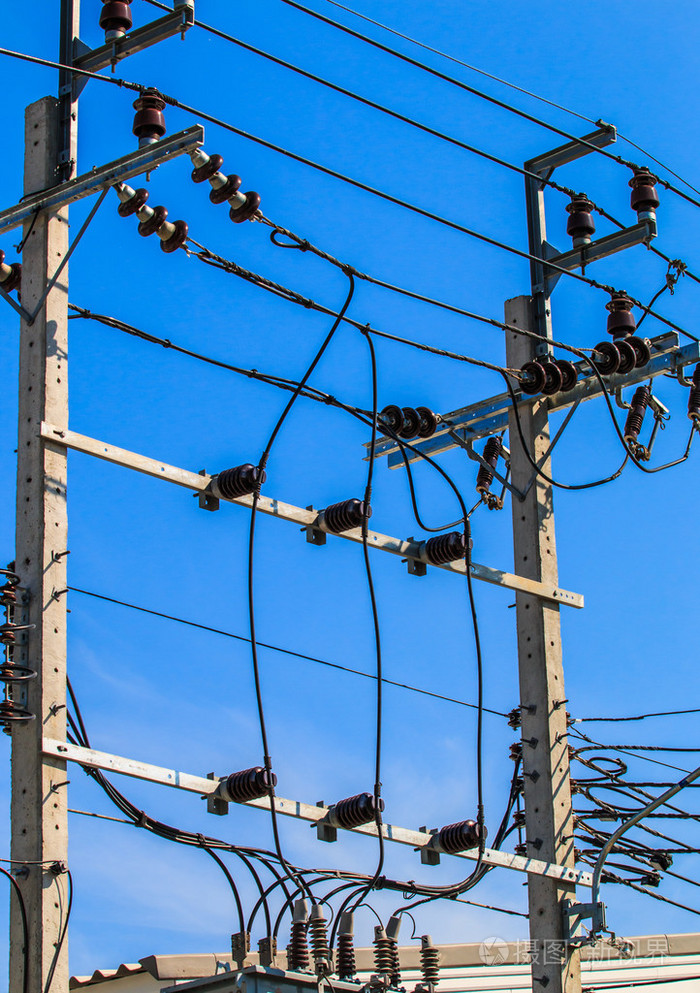insulator: (113, 189, 190, 254), (194, 157, 261, 223), (517, 361, 583, 397), (379, 403, 438, 440), (596, 337, 650, 376)
